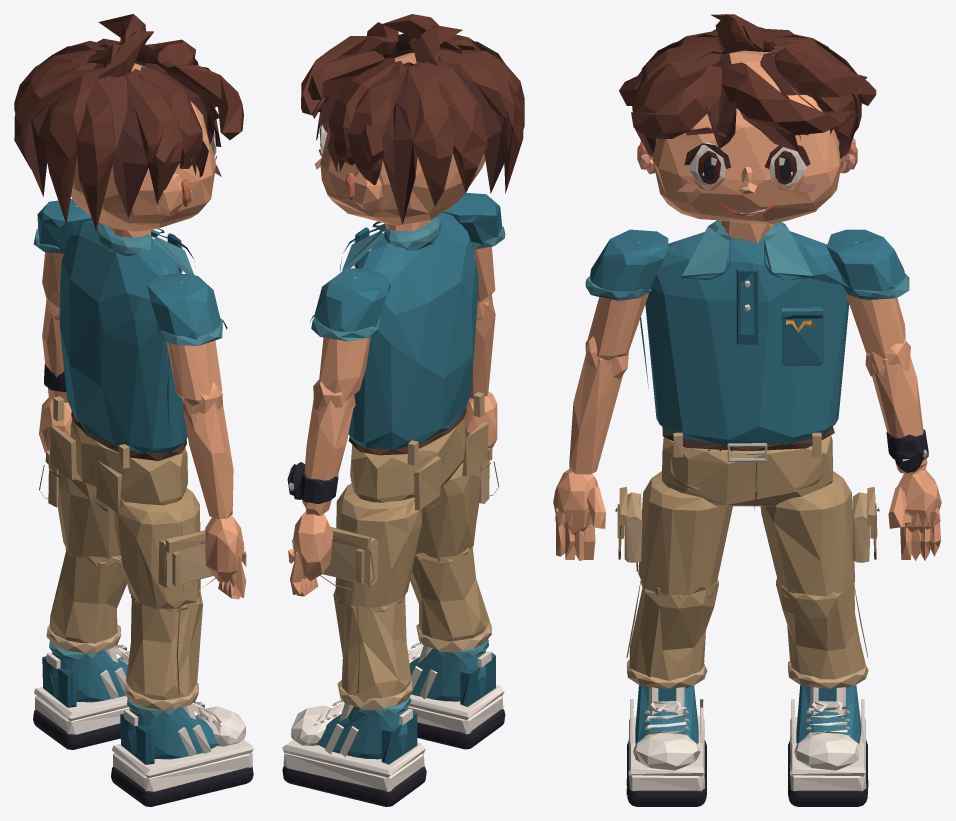
File: npc.civilian-man-a.lod1.glb
3 views of the same model, side by side, from view 1: azimuth 30°, elevation 25°; view 2: azimuth 150°, elevation 25°; view 3: azimuth 270°, elevation 25° (orthographic). The views are drawn at different scales.
Visible parts, largest first — view 1: head, torso, footR, legR, footL, hip, shinR, armR, shinL, foreArmR, legL, armL (+3 smaller); view 2: head, torso, footL, legL, footR, hip, shinL, armL, shinR, foreArmL, legR, armR (+3 smaller); view 3: head, torso, hip, legL, legR, footL, footR, shinR, shinL, armR, armL, foreArmL (+3 smaller).
Part boxes in pixels (x1=…): head: x1=14, y1=14, x2=243, y2=237; torso: x1=59, y1=220, x2=194, y2=453; footR: x1=111, y1=698, x2=253, y2=806; legR: x1=114, y1=488, x2=215, y2=608; footL: x1=33, y1=641, x2=130, y2=749; hip: x1=43, y1=396, x2=187, y2=513; shinR: x1=124, y1=590, x2=202, y2=710; armR: x1=147, y1=273, x2=227, y2=405; shinL: x1=46, y1=548, x2=126, y2=653; foreArmR: x1=182, y1=382, x2=233, y2=519; legL: x1=39, y1=450, x2=120, y2=558; armL: x1=33, y1=198, x2=92, y2=307; head: x1=301, y1=14, x2=524, y2=231; torso: x1=340, y1=212, x2=478, y2=449; footL: x1=282, y1=697, x2=426, y2=806; legL: x1=320, y1=483, x2=422, y2=607; footR: x1=407, y1=639, x2=505, y2=749; hip: x1=348, y1=392, x2=491, y2=510; shinL: x1=333, y1=589, x2=412, y2=709; armL: x1=310, y1=268, x2=390, y2=401; shinR: x1=410, y1=547, x2=491, y2=652; foreArmL: x1=287, y1=379, x2=355, y2=515; legR: x1=415, y1=448, x2=499, y2=557; armR: x1=443, y1=192, x2=505, y2=302; head: x1=619, y1=14, x2=876, y2=242; torso: x1=640, y1=220, x2=849, y2=446; hip: x1=662, y1=427, x2=834, y2=510; legL: x1=760, y1=471, x2=879, y2=596; legR: x1=615, y1=471, x2=732, y2=595; footL: x1=788, y1=685, x2=868, y2=806; footR: x1=626, y1=685, x2=706, y2=806; shinR: x1=626, y1=579, x2=718, y2=688; shinL: x1=776, y1=578, x2=868, y2=688; armR: x1=585, y1=229, x2=668, y2=360; armL: x1=826, y1=229, x2=909, y2=358; foreArmL: x1=865, y1=339, x2=928, y2=474.
Bounding box in the file's own units: 0.3718 × 1.43 × 0.6652.
